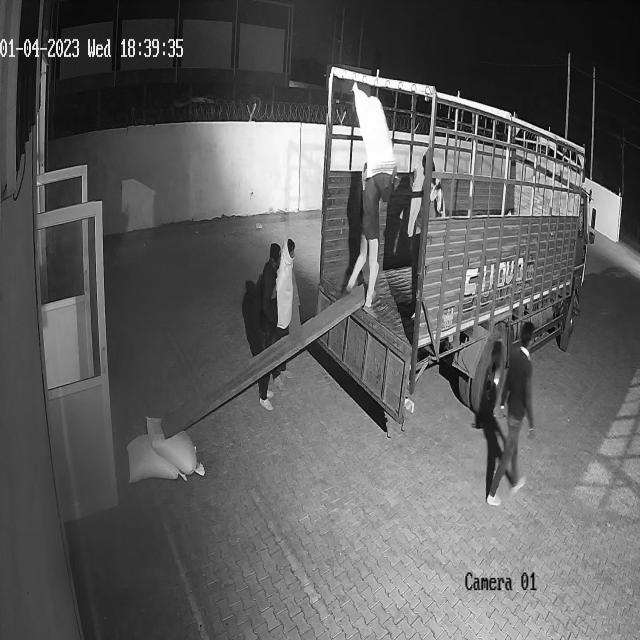sack: (352, 82, 397, 178), (145, 414, 206, 475), (127, 432, 186, 482)
